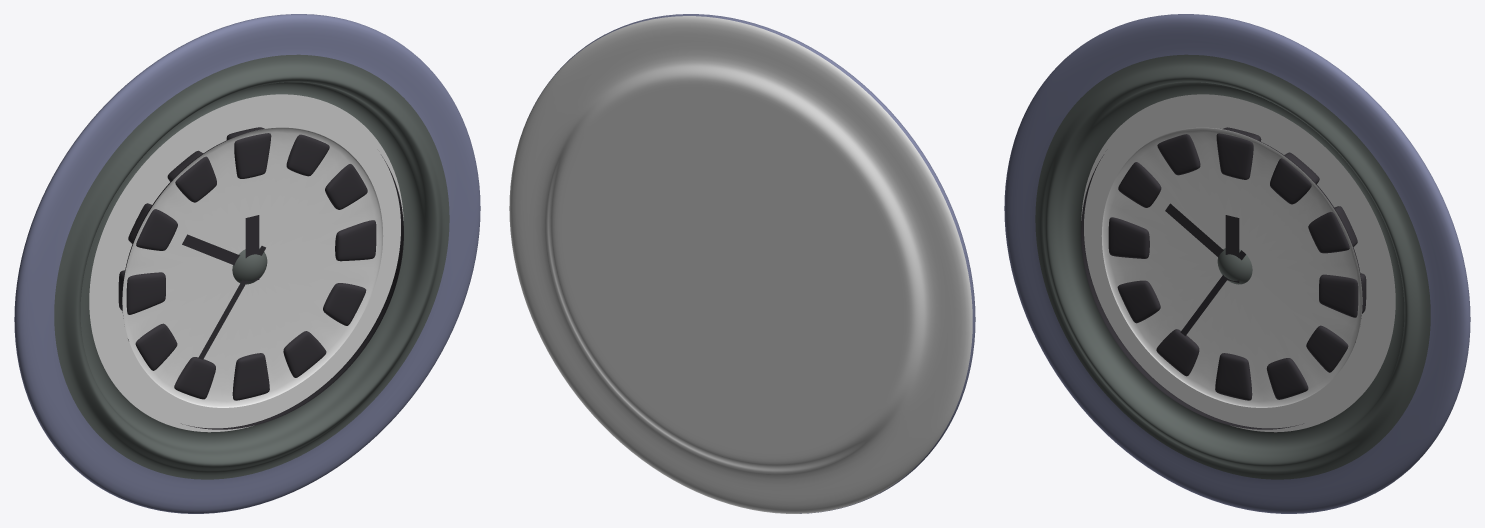
File: clocks.glb
3 renders of one model, left to right at view 1: azimuth 30°, elevation 25°; view 2: azimuth 150°, elevation 25°; view 3: azimuth 330°, elevation 25°, orthographic.
Parts seen in each view (by area): view 1: Circle, Cube, Sphere, minute, houre, second; view 2: Circle; view 3: Circle, Cube, Sphere, minute, houre, second.
Part boxes in pixels (bbox=[...]): Circle: bbox=[14, 14, 480, 513]; Cube: bbox=[118, 127, 376, 400]; Sphere: bbox=[232, 248, 267, 284]; minute: bbox=[182, 234, 239, 265]; houre: bbox=[245, 215, 259, 282]; second: bbox=[198, 246, 265, 359]; Circle: bbox=[509, 14, 975, 513]; Circle: bbox=[1004, 14, 1470, 513]; Cube: bbox=[1108, 127, 1366, 400]; Sphere: bbox=[1217, 248, 1252, 284]; minute: bbox=[1165, 203, 1223, 257]; houre: bbox=[1225, 215, 1239, 282]; second: bbox=[1180, 250, 1245, 335].
Bounding box in the file's own units: 14.28 × 14.28 × 1.08.
